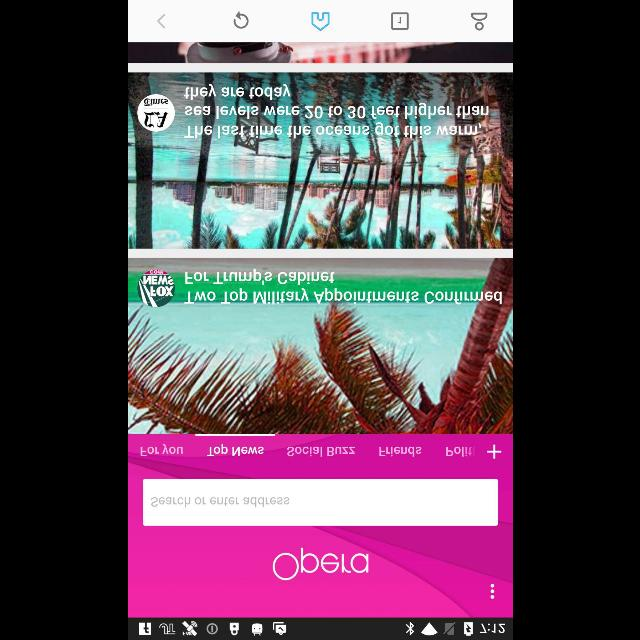icon: (310, 13, 330, 32), (470, 13, 488, 31), (232, 11, 248, 29), (486, 444, 502, 458), (156, 14, 164, 28), (490, 583, 494, 599)
image: (128, 73, 512, 249), (128, 258, 512, 434), (128, 42, 512, 62), (136, 94, 174, 132), (137, 269, 175, 307), (390, 12, 408, 30)
input: (142, 478, 498, 526)
multitab: (128, 434, 512, 472)
text: (184, 83, 488, 139), (183, 268, 501, 304), (272, 547, 368, 581), (150, 497, 288, 507), (205, 444, 262, 456), (286, 446, 354, 456), (140, 444, 182, 456), (378, 446, 422, 456), (446, 446, 474, 456)
uppertaskbar: (128, 617, 512, 639)
